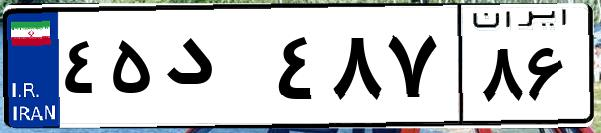4: (270, 28, 330, 110), (57, 26, 110, 100)
5: (110, 28, 158, 98)
6: (525, 38, 570, 115)
7: (385, 28, 445, 110)
8: (330, 28, 385, 110), (475, 38, 525, 113)
د: (158, 20, 270, 120)
